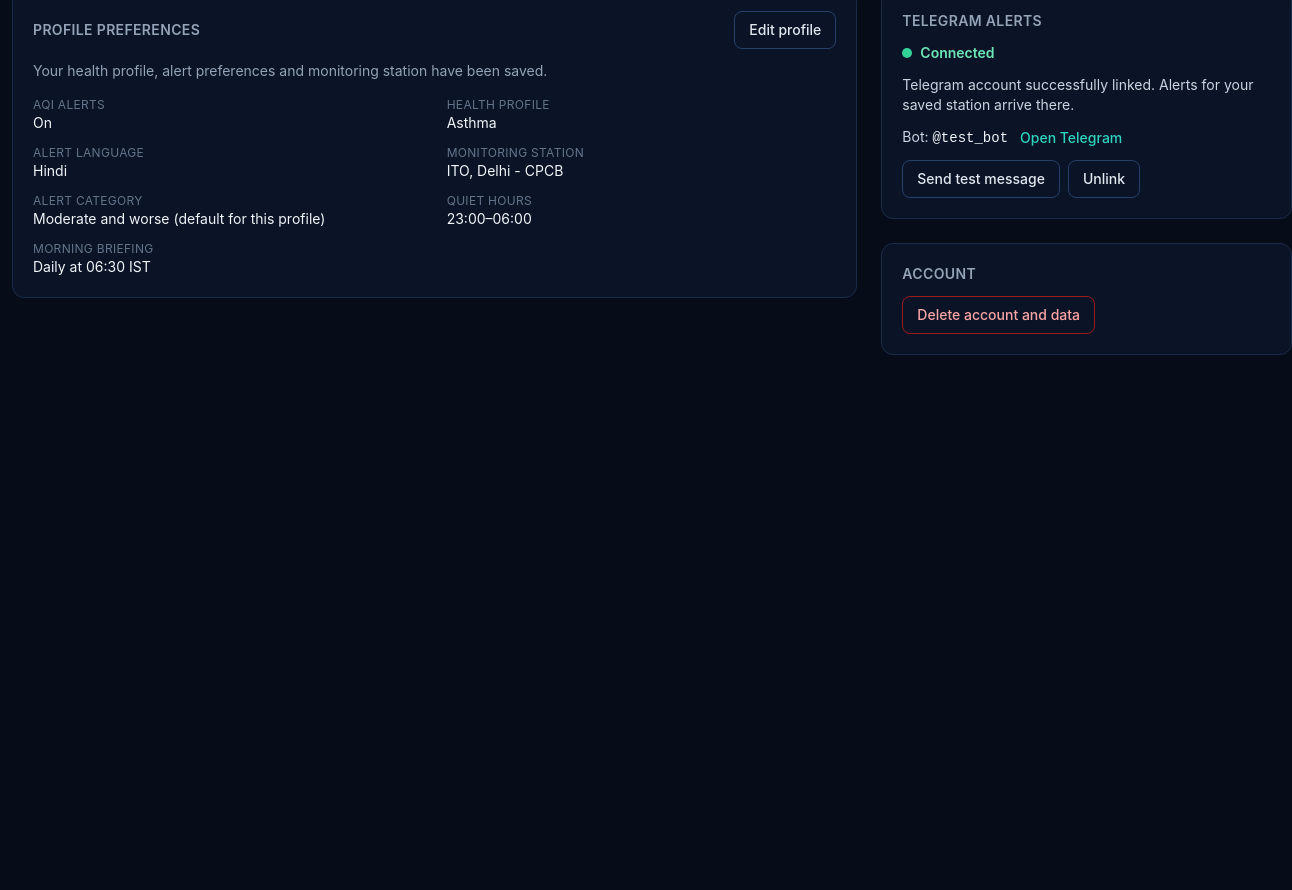
it: Profile page: collapsible saved settings › the Telegram card and the Account section stay visible in every state
Expected: the heading "Telegram alerts" is shown, [902,11,1042,31]
Expected: the text "Connected" is shown, [920,43,994,63]
Click the button "Edit profile" at (785, 30), box [734,11,836,49]
(page scrolled)
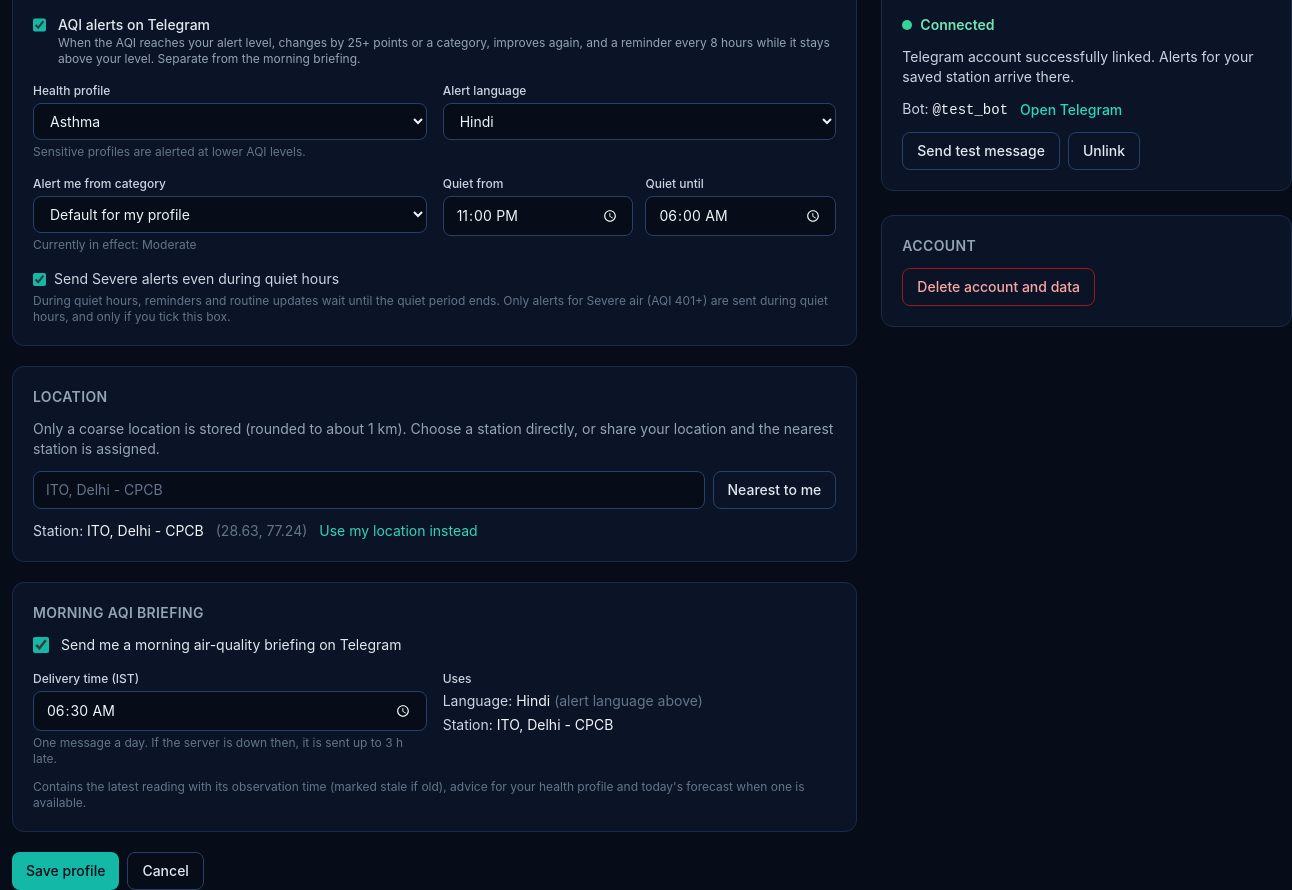
Expected: the text "Connected" is shown, [920,15,994,35]
Click the button "Save profile" at (66, 871), box [12,852,119,889]
(page scrolled)
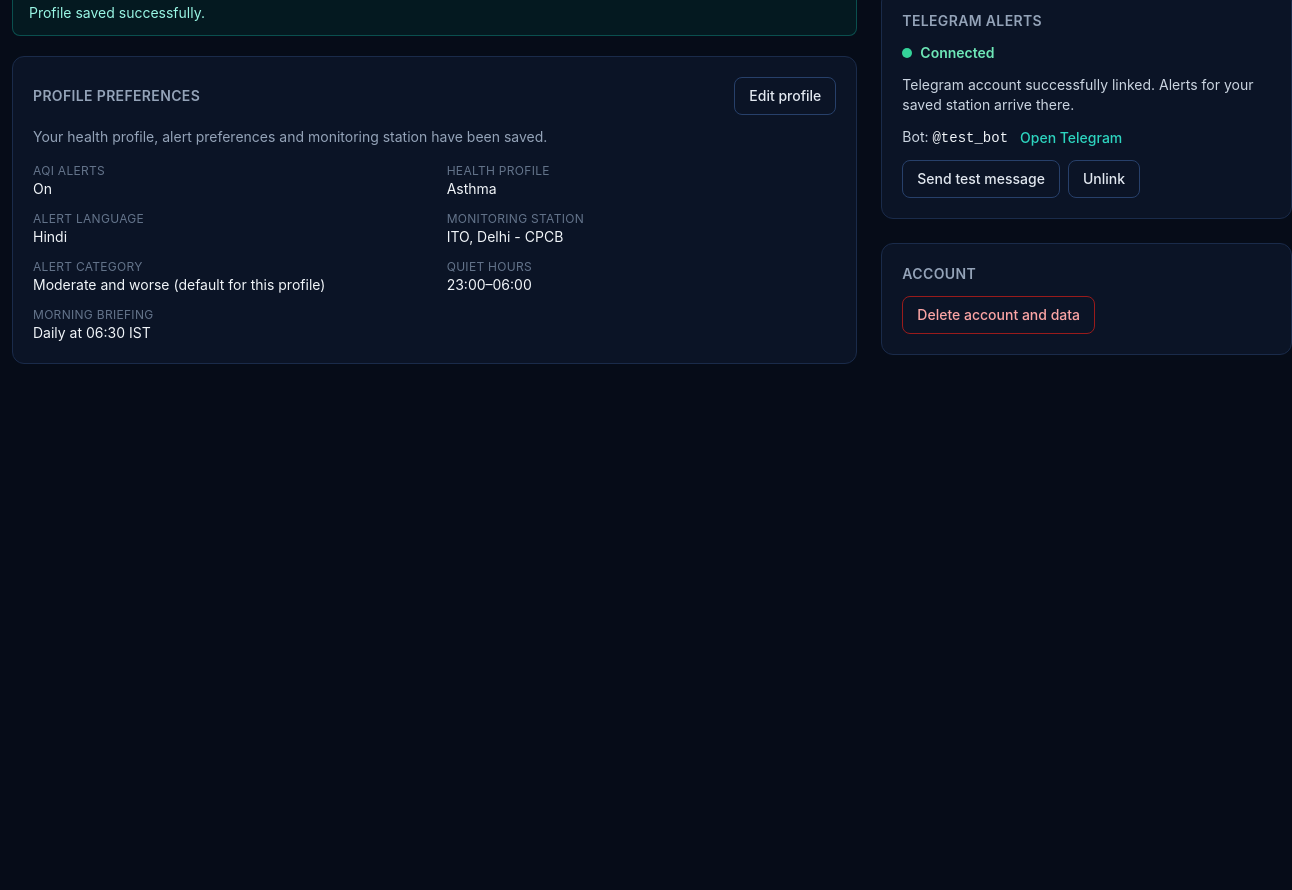
Expected: the text "Connected" is shown, [920,43,994,63]
Result: the text "Profile saved successfully." is shown at [29,4,205,21]
